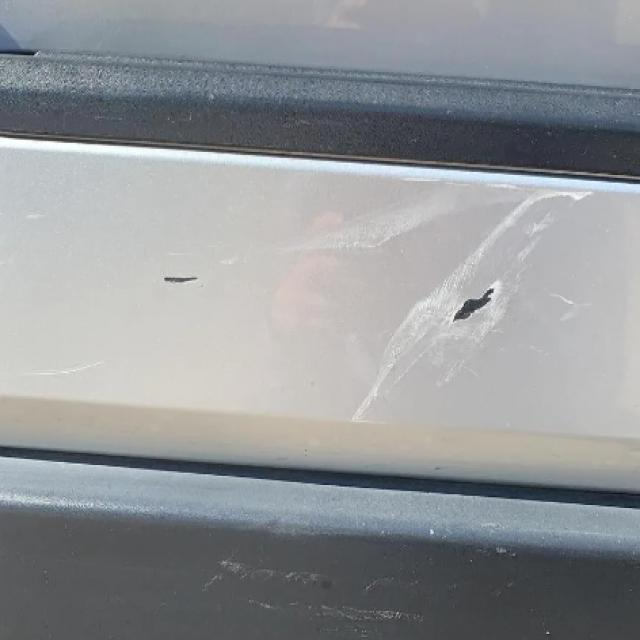dents: (142, 244, 222, 330), (446, 268, 516, 354)
